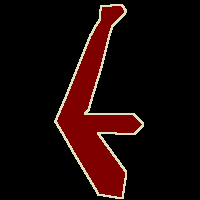tie: (55, 4, 143, 198)
